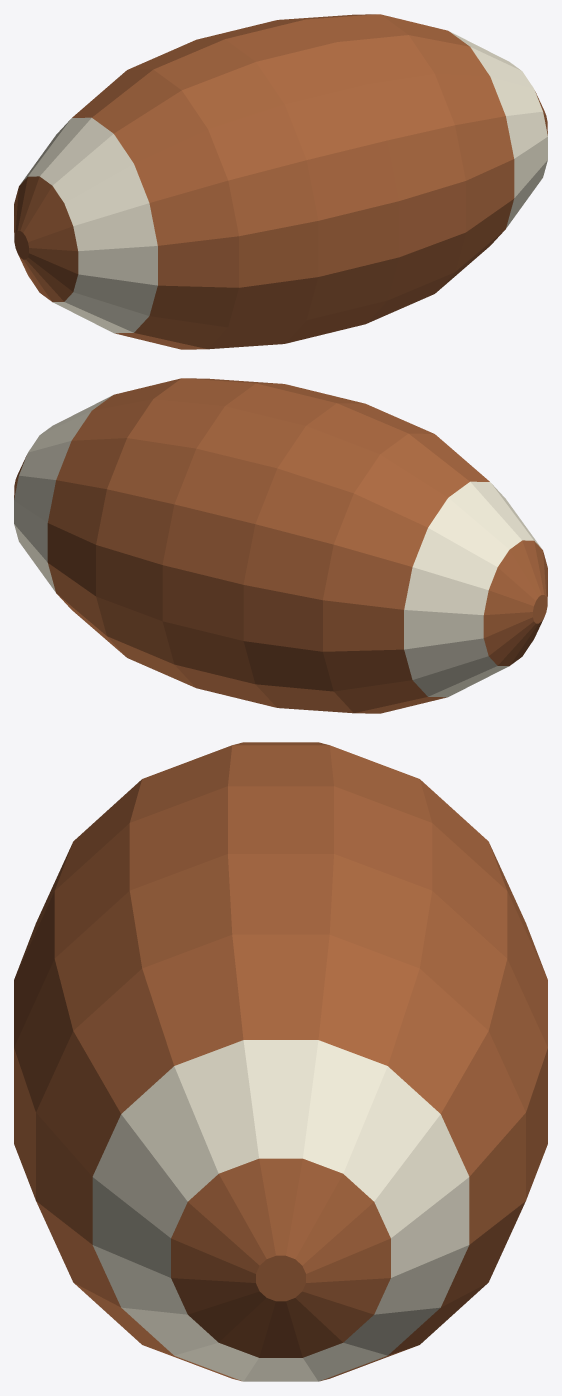
3 renders of one model, top to bottom at view 1: azimuth 30°, elevation 25°; view 2: azimuth 150°, elevation 25°; view 3: azimuth 270°, elevation 25°, orthographic. The views are drawn at different scales.
Parts seen in each view (by area): view 1: ContinuousFacetedOvalTrainingBall; view 2: ContinuousFacetedOvalTrainingBall; view 3: ContinuousFacetedOvalTrainingBall.
Boxes of the visible parts, box(x1,y1,x2,y2) form: ContinuousFacetedOvalTrainingBall: box(14, 14, 547, 349); ContinuousFacetedOvalTrainingBall: box(14, 378, 547, 713); ContinuousFacetedOvalTrainingBall: box(14, 742, 547, 1381).
Bounding box in the file's own units: 0.32 × 0.1667 × 0.1667.
